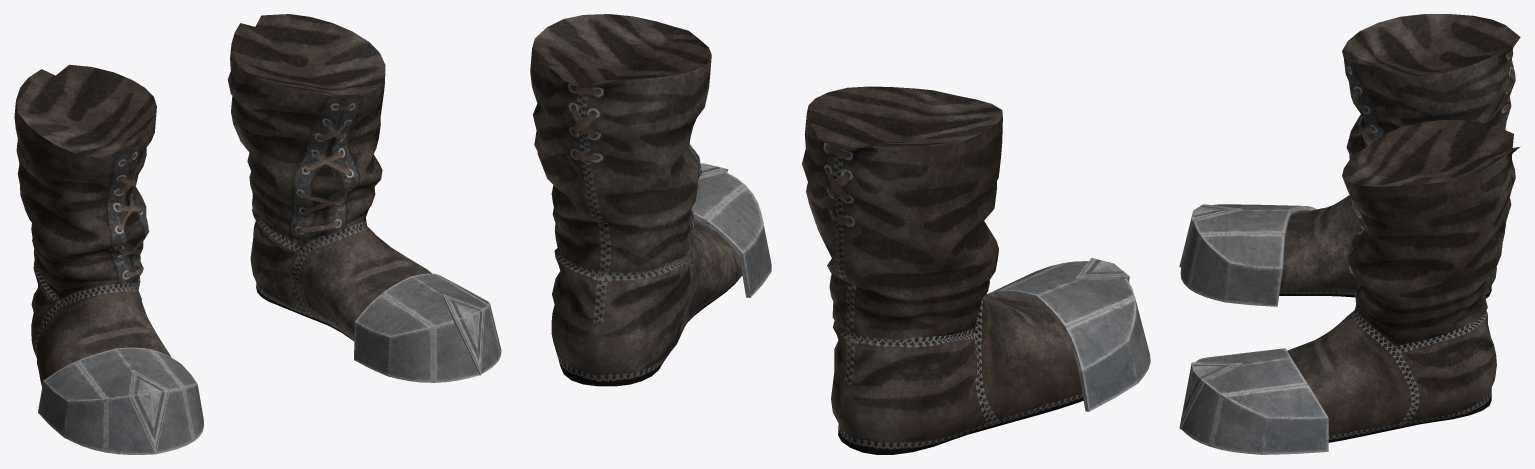
Rendered from sk_dwarf_erebor_boots_med_e.fbx.
The picture shows the model from 3 angles, left to right: view 1: azimuth 30°, elevation 25°; view 2: azimuth 150°, elevation 25°; view 3: azimuth 270°, elevation 25°; orthographic projection. The views are drawn at different scales.
Visible parts, largest first — view 1: sk_dwarf_erebor_boots_med_e; view 2: sk_dwarf_erebor_boots_med_e; view 3: sk_dwarf_erebor_boots_med_e.
Boxes of the visible parts, box(x1,y1,x2,y2) form: sk_dwarf_erebor_boots_med_e: box(14, 14, 501, 454); sk_dwarf_erebor_boots_med_e: box(530, 14, 1150, 454); sk_dwarf_erebor_boots_med_e: box(1179, 14, 1520, 454).
Bounding box in the file's own units: 0.5389 × 0.3647 × 0.3053.
1 material, 1 textured.
